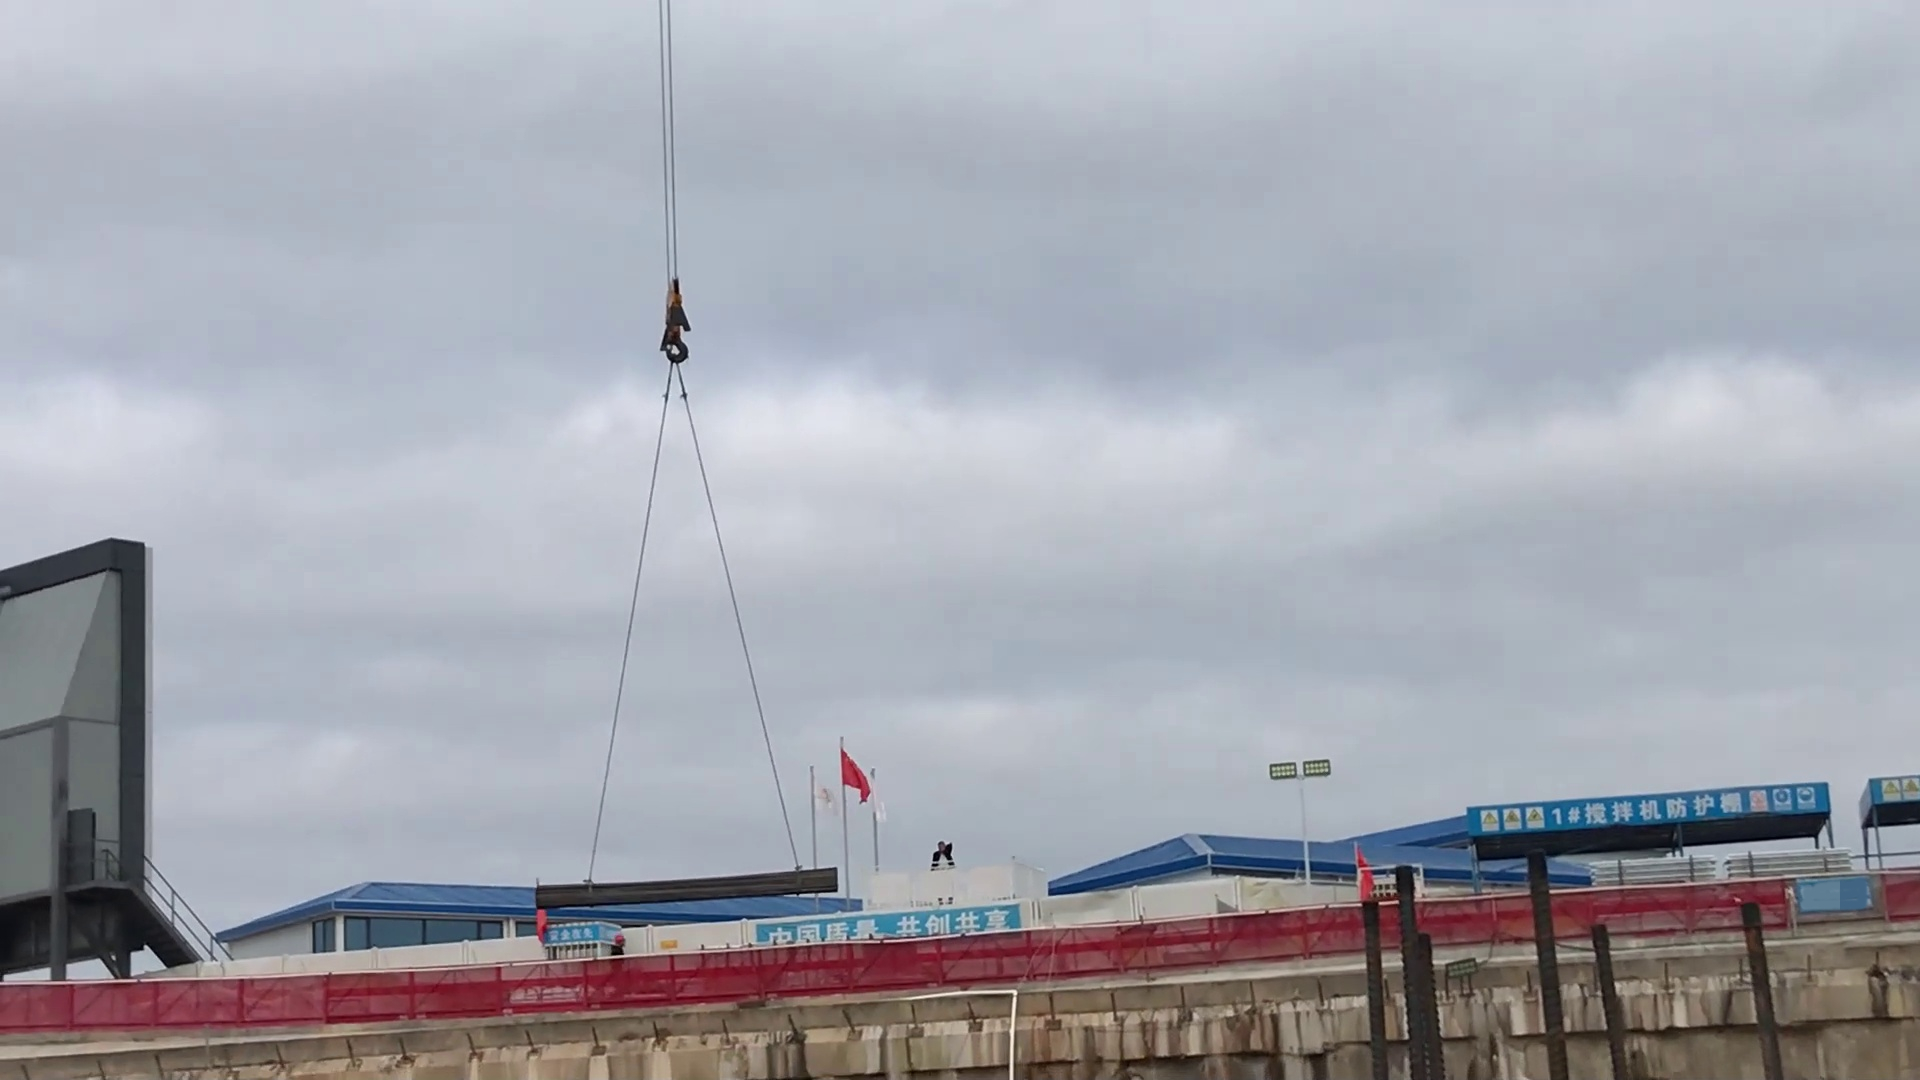fence: (7, 866, 1785, 1040)
hook: (644, 258, 707, 381)
rebar: (529, 862, 841, 928)
slogan: (757, 890, 1025, 952)
